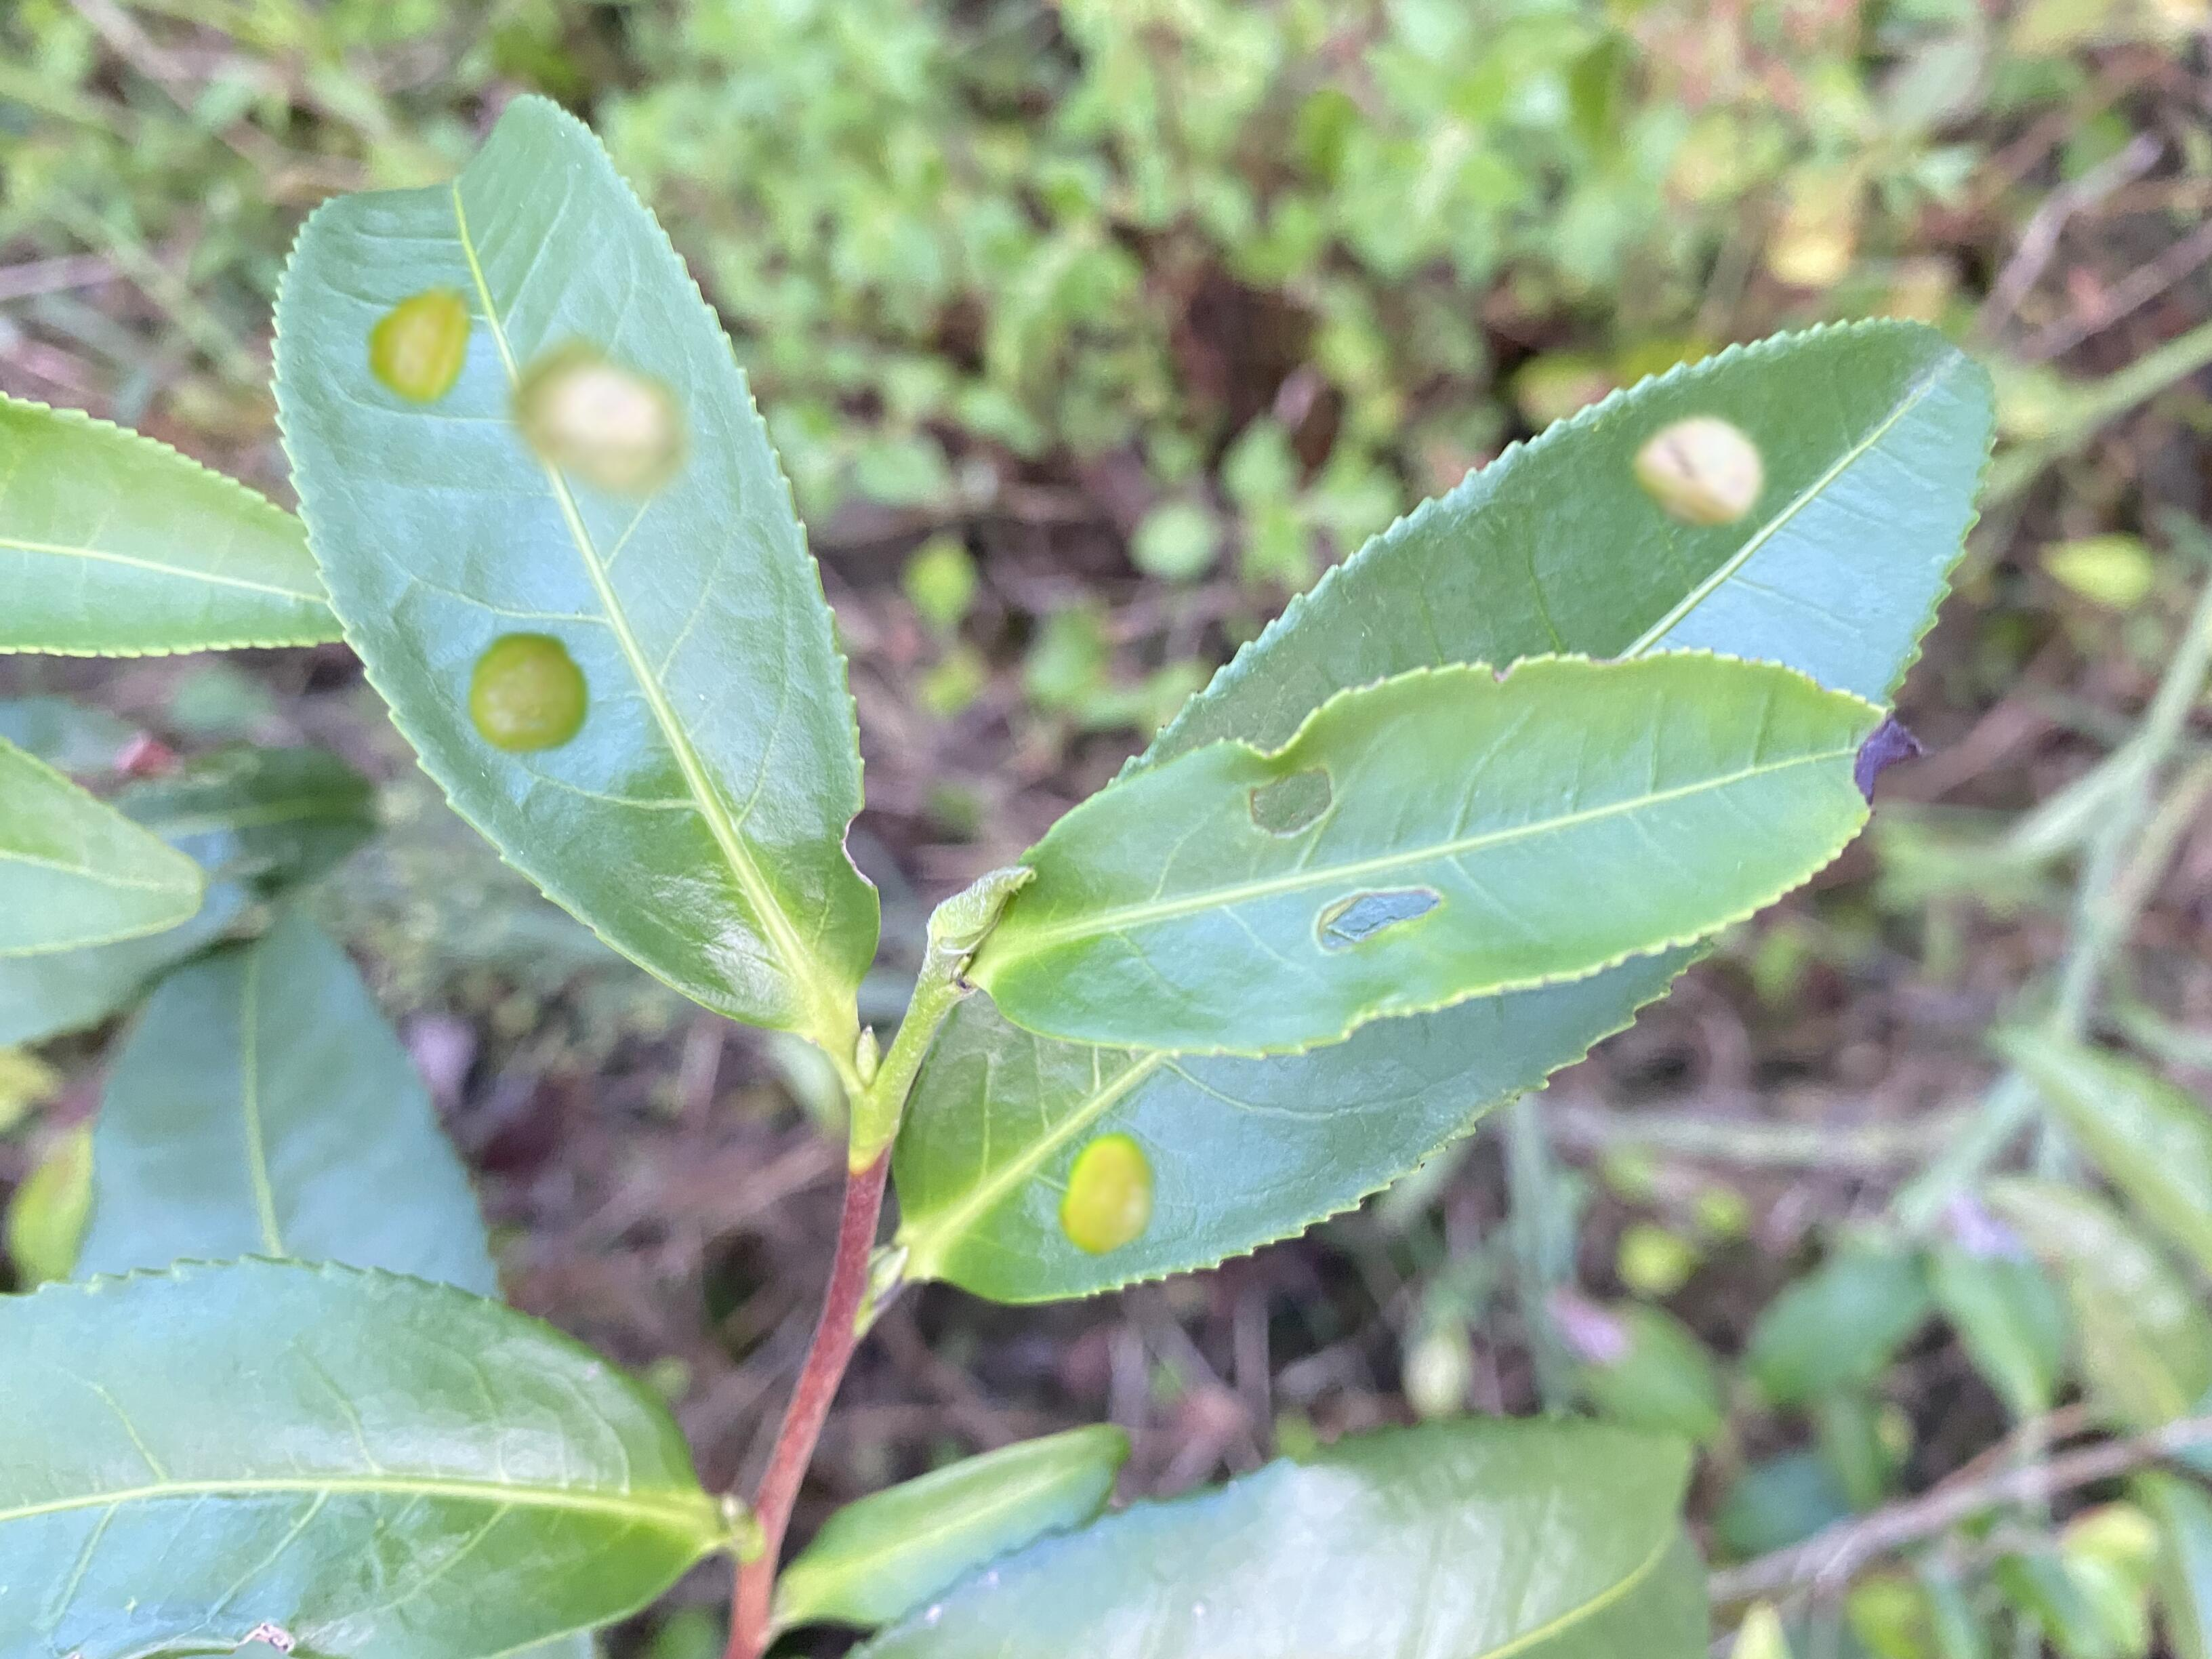chabing_high: (887, 315, 2005, 1309), (268, 94, 883, 1028)
chihuo_high: (979, 647, 1853, 1065)
tanju_low: (5, 1255, 712, 1659)
